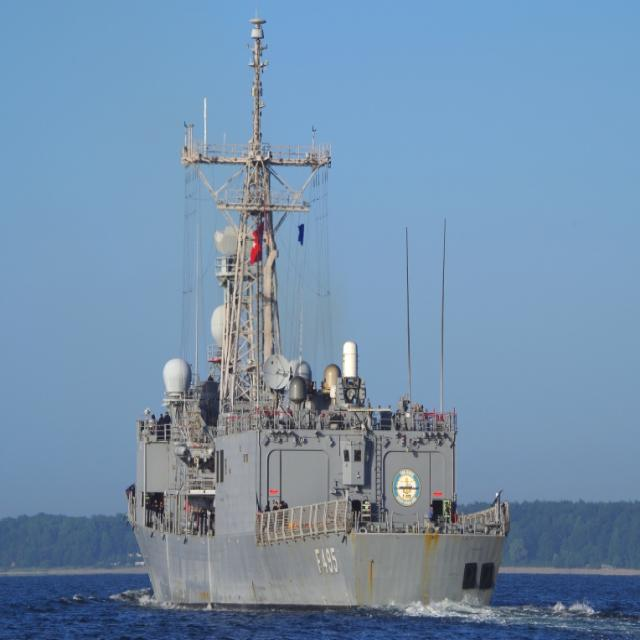Fragata: (124, 1, 515, 622)
